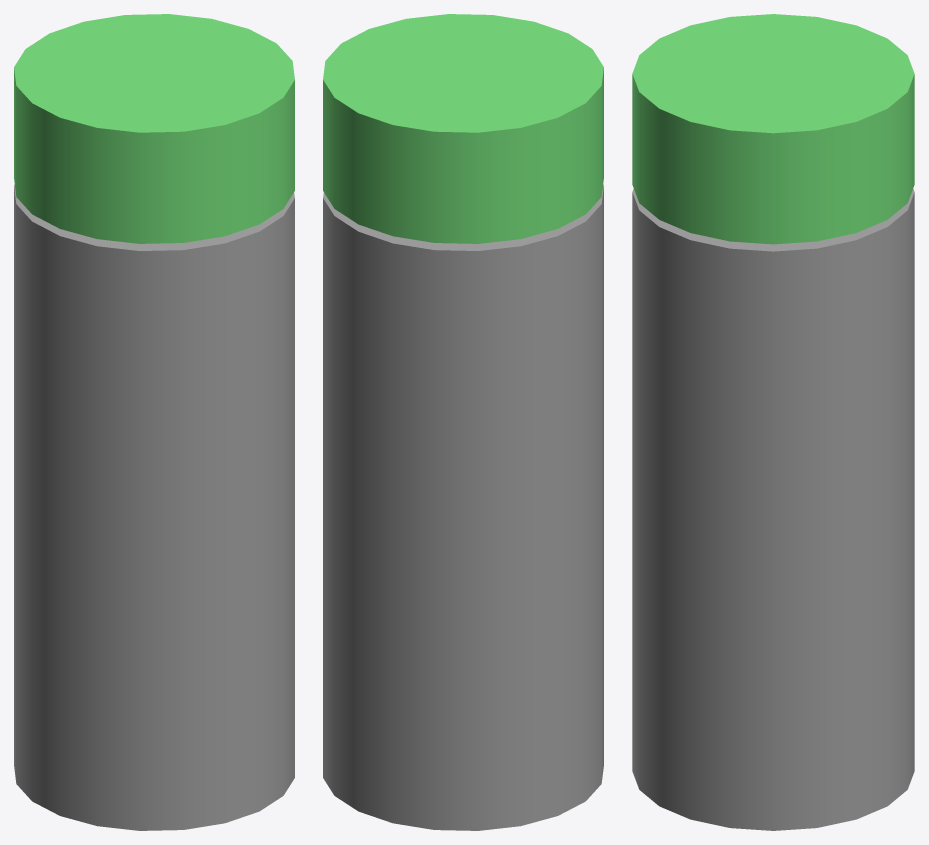
The model's file is obj_Openable_cilinder.fbx.
The picture shows the model from 3 angles, left to right: view 1: azimuth 30°, elevation 25°; view 2: azimuth 150°, elevation 25°; view 3: azimuth 270°, elevation 25°; orthographic projection.
Parts seen in each view (by area): view 1: Openable_cilinder, Cilinder; view 2: Openable_cilinder, Cilinder; view 3: Openable_cilinder, Cilinder.
Part boxes in pixels (box(x1,y1,x2,y2)): Openable_cilinder: box(14, 185, 294, 830); Cilinder: box(14, 14, 294, 243); Openable_cilinder: box(323, 185, 603, 830); Cilinder: box(323, 14, 603, 243); Openable_cilinder: box(632, 189, 914, 830); Cilinder: box(632, 14, 914, 244).
Bounding box in the file's own units: 0.5533 × 1.51 × 0.5533.
